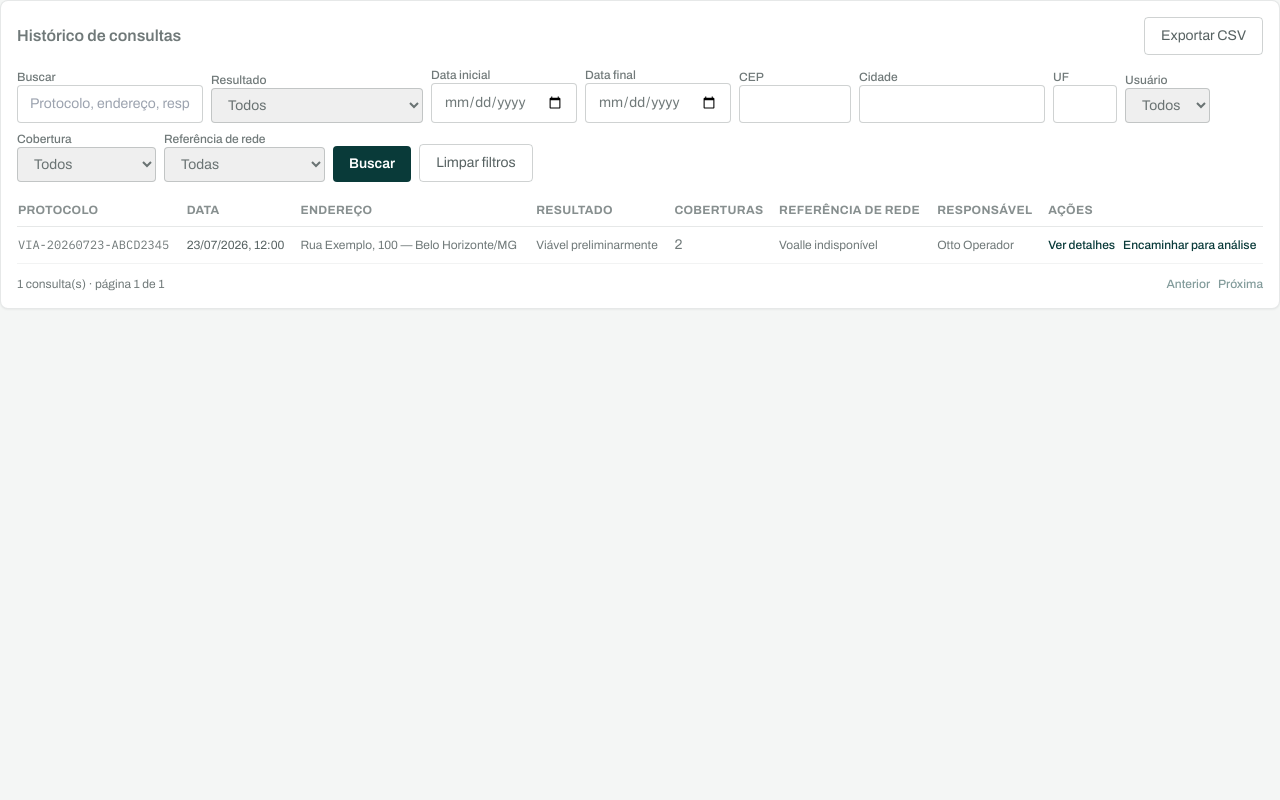
diálogos de análise técnica no Histórico › análise já existente NÃO abre o formulário: vai direto aos detalhes
Click the button "Encaminhar para análise". click: [1190, 245]
box: [1123,237,1256,253]
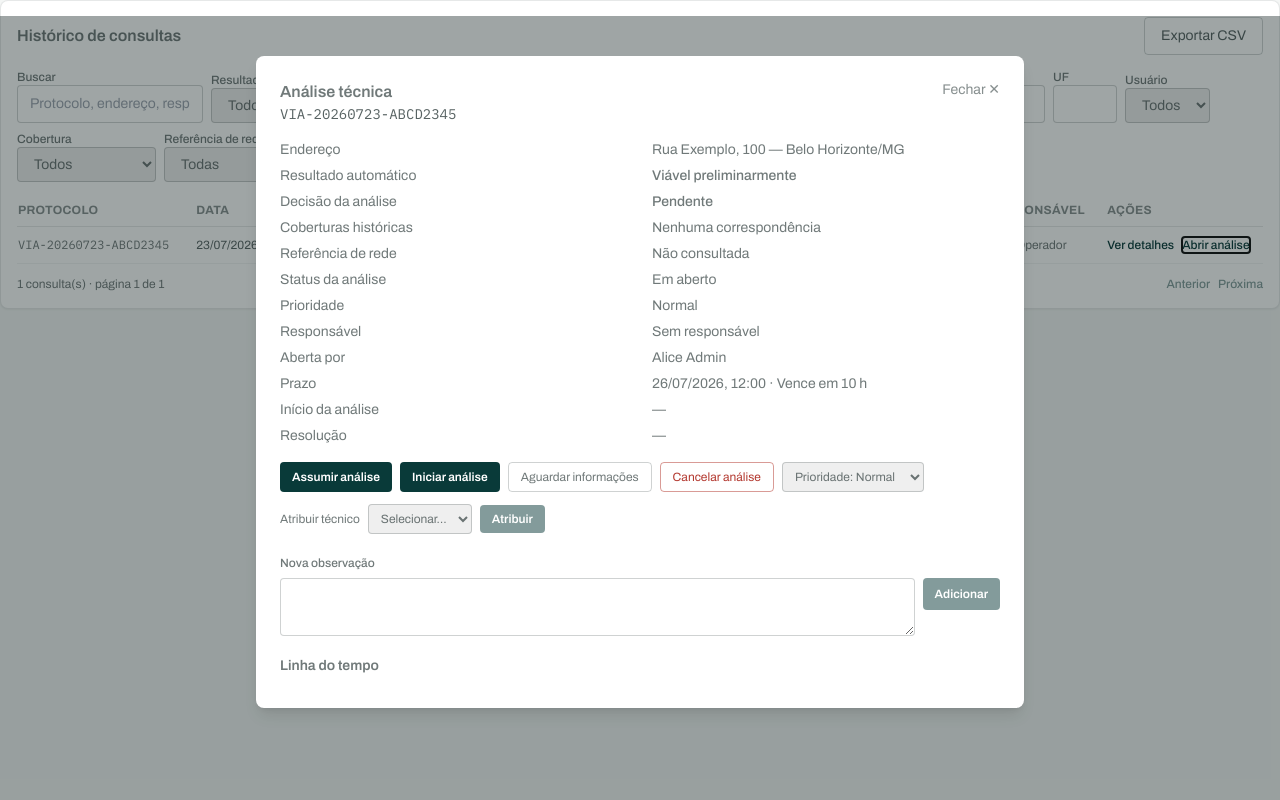
Result: the heading "Linha do tempo" is shown at [280,658,379,673]
Result: the button "Encaminhar para análise" is gone
Result: the button "Abrir análise" is shown at [1182,237,1250,253]
